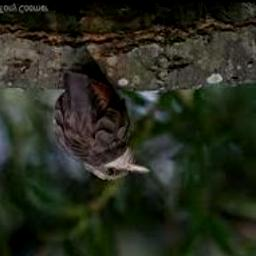Cuckoo: (52, 68, 150, 180)
